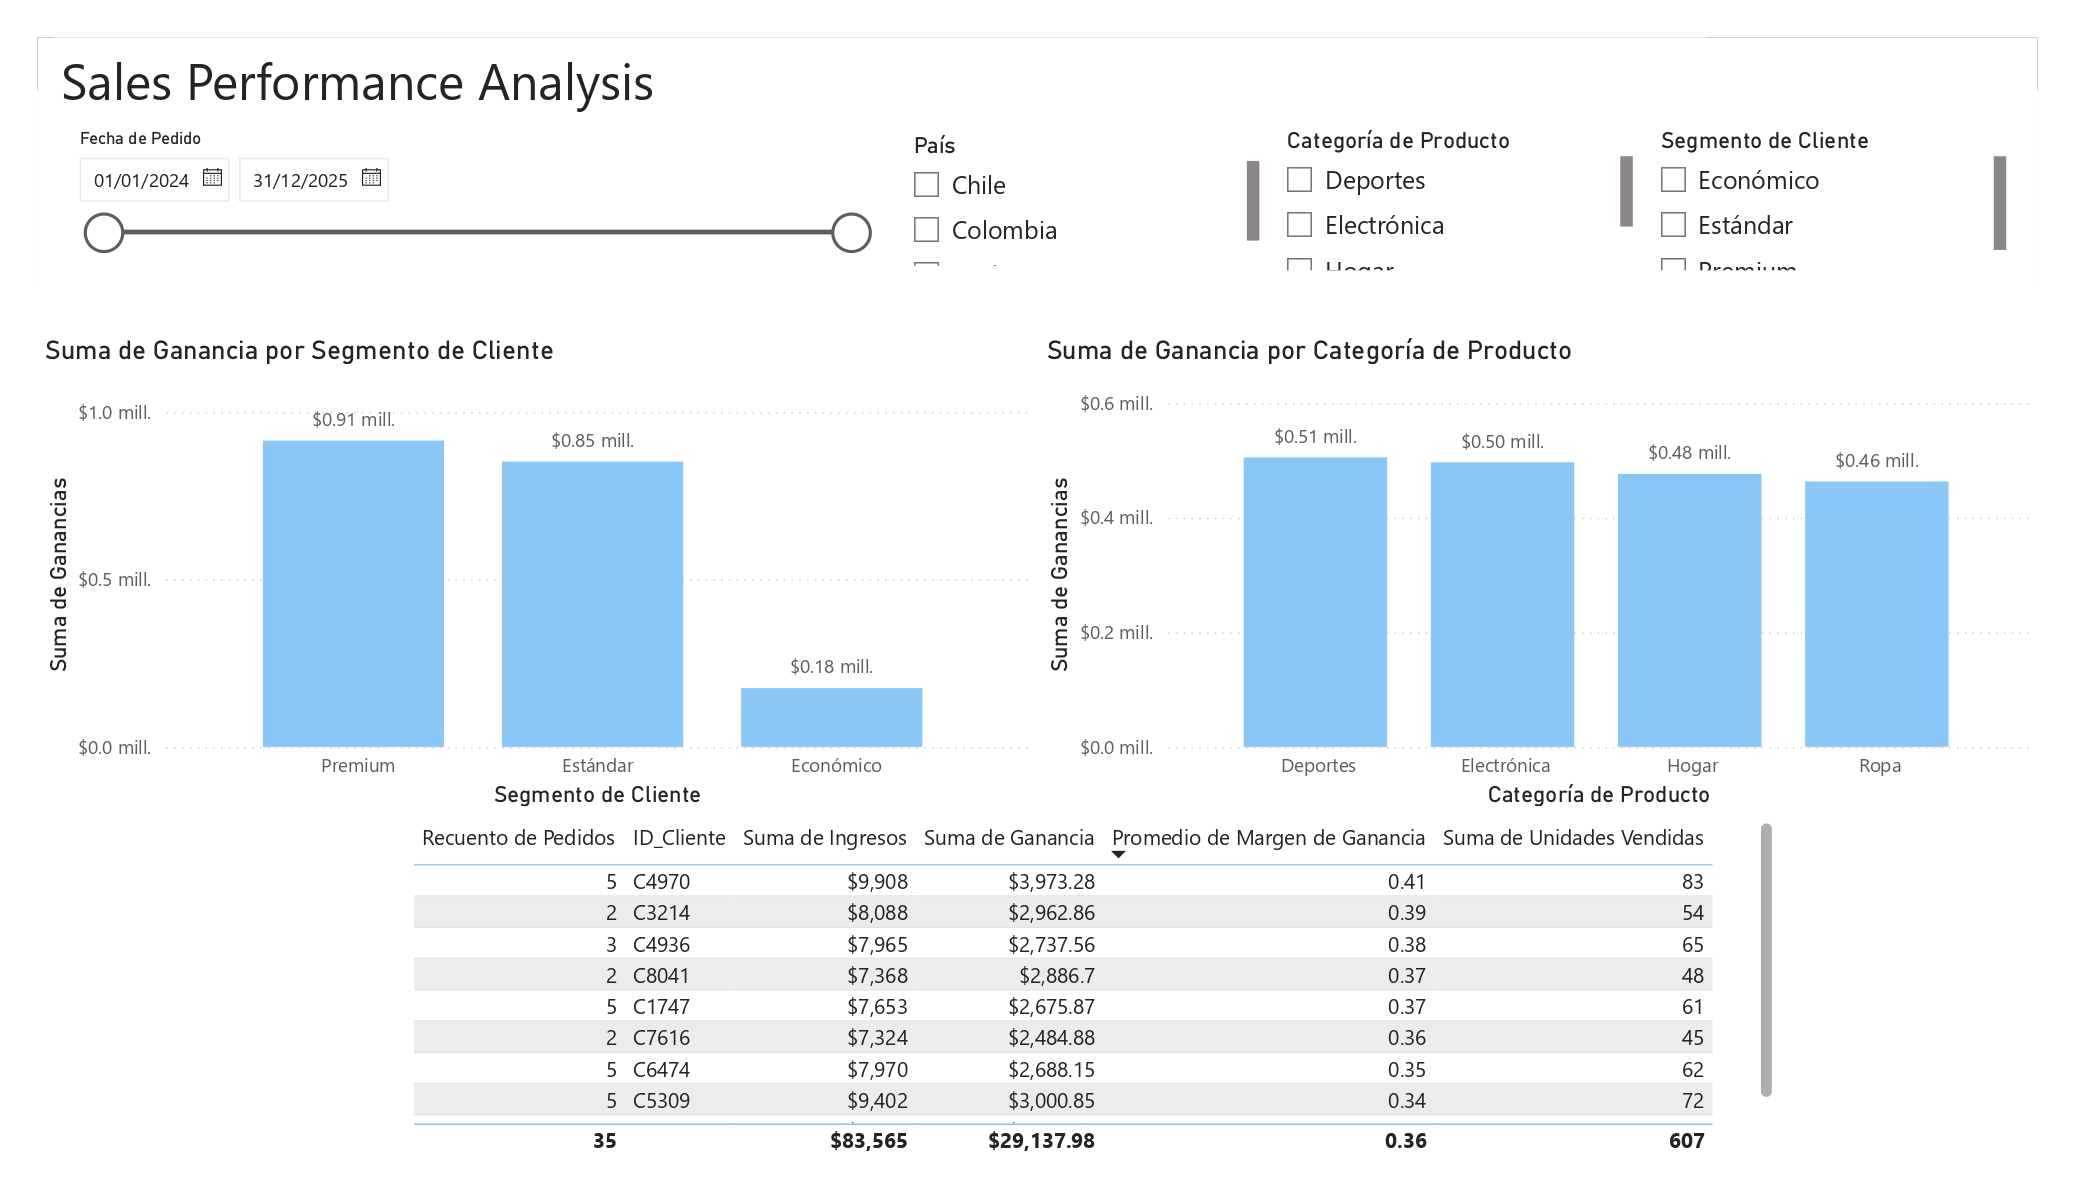

What the dashboard file says about the page in this screenshot:
{"tool":"powerbi","page":{"name":"Vista 2","canvas":[1280,720],"ordinal":1},"visuals":[{"type":"textbox","box":[10.1,0,1058.3,57.1],"z":0},{"type":"slicer","fields":{"Values":["Andes_Retail_Group_2024_2025.Fecha_Pedido"]},"box":[14.3,52.6,528.5,100.8],"z":0,"group":"g1"},{"type":"group","id":"g1","title":"Grupo 1","box":[14.3,52.6,1251.4,100.8],"z":1000},{"type":"slicer","fields":{"Values":["Andes_Retail_Group_2024_2025.País"]},"box":[548.5,55.5,239,95],"z":1000,"group":"g1"},{"type":"slicer","fields":{"Values":["Andes_Retail_Group_2024_2025.Categoría_Producto"]},"box":[787.6,52.6,239,100.8],"z":2000,"group":"g1"},{"type":"clusteredColumnChart","title":"Suma de Ganancia por Segmento de Cliente","fields":{"Category":["Andes_Retail_Group_2024_2025.Segmento_Cliente"],"Y":["Sum(Andes_Retail_Group_2024_2025.Ganancia)"]},"box":[0,190.1,639.4,306.7],"z":2000},{"type":"slicer","fields":{"Values":["Andes_Retail_Group_2024_2025.Segmento_Cliente"]},"box":[1026.6,52.6,239,100.8],"z":3000,"group":"g1"},{"type":"clusteredColumnChart","title":"Suma de Ganancia por Categoría de Producto","fields":{"Category":["Andes_Retail_Group_2024_2025.Categoría_Producto"],"Y":["Sum(Andes_Retail_Group_2024_2025.Ganancia)"]},"box":[640.8,190.1,639.4,306.7],"z":3000},{"type":"tableEx","fields":{"Values":["Count(Andes_Retail_Group_2024_2025.ID_Pedido)","Andes_Retail_Group_2024_2025.ID_Cliente","Sum(Andes_Retail_Group_2024_2025.Ingresos)","Sum(Andes_Retail_Group_2024_2025.Ganancia)","Avg(Andes_Retail_Group_2024_2025.Margen_Ganancia)","Sum(Andes_Retail_Group_2024_2025.Unidades_Vendidas)"]},"box":[234.7,496.8,881.3,223.2],"z":4000}]}

Visuals, with their boxes on the page's 1280x720 design canvas (x1, y1, x2, y2). These are canvas units, not pixel positions in the 2075x1200 screenshot, which may show the page scaled, cropped or inside an application window:
textbox: (left=10, top=0, right=1068, bottom=57)
slicer - Andes_Retail_Group_2024_2025.Fecha_Pedido: (left=14, top=53, right=543, bottom=153)
"Grupo 1" group: (left=14, top=53, right=1266, bottom=153)
slicer - Andes_Retail_Group_2024_2025.País: (left=548, top=56, right=788, bottom=150)
slicer - Andes_Retail_Group_2024_2025.Categoría_Producto: (left=788, top=53, right=1027, bottom=153)
"Suma de Ganancia por Segmento de Cliente" clusteredColumnChart: (left=0, top=190, right=639, bottom=497)
slicer - Andes_Retail_Group_2024_2025.Segmento_Cliente: (left=1027, top=53, right=1266, bottom=153)
"Suma de Ganancia por Categoría de Producto" clusteredColumnChart: (left=641, top=190, right=1280, bottom=497)
tableEx - Count(Andes_Retail_Group_2024_2025.ID_Pedido) x Andes_Retail_Group_2024_2025.ID_Cliente: (left=235, top=497, right=1116, bottom=720)
